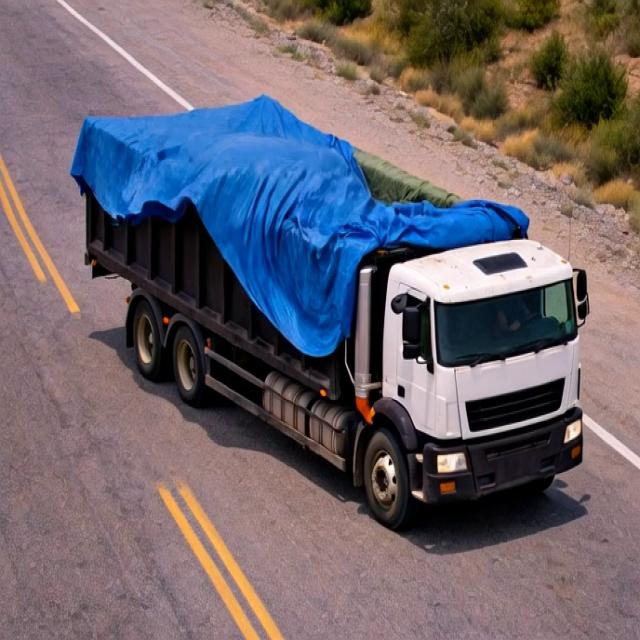Box: (86, 90, 527, 258)
Truck: (66, 75, 594, 540)
